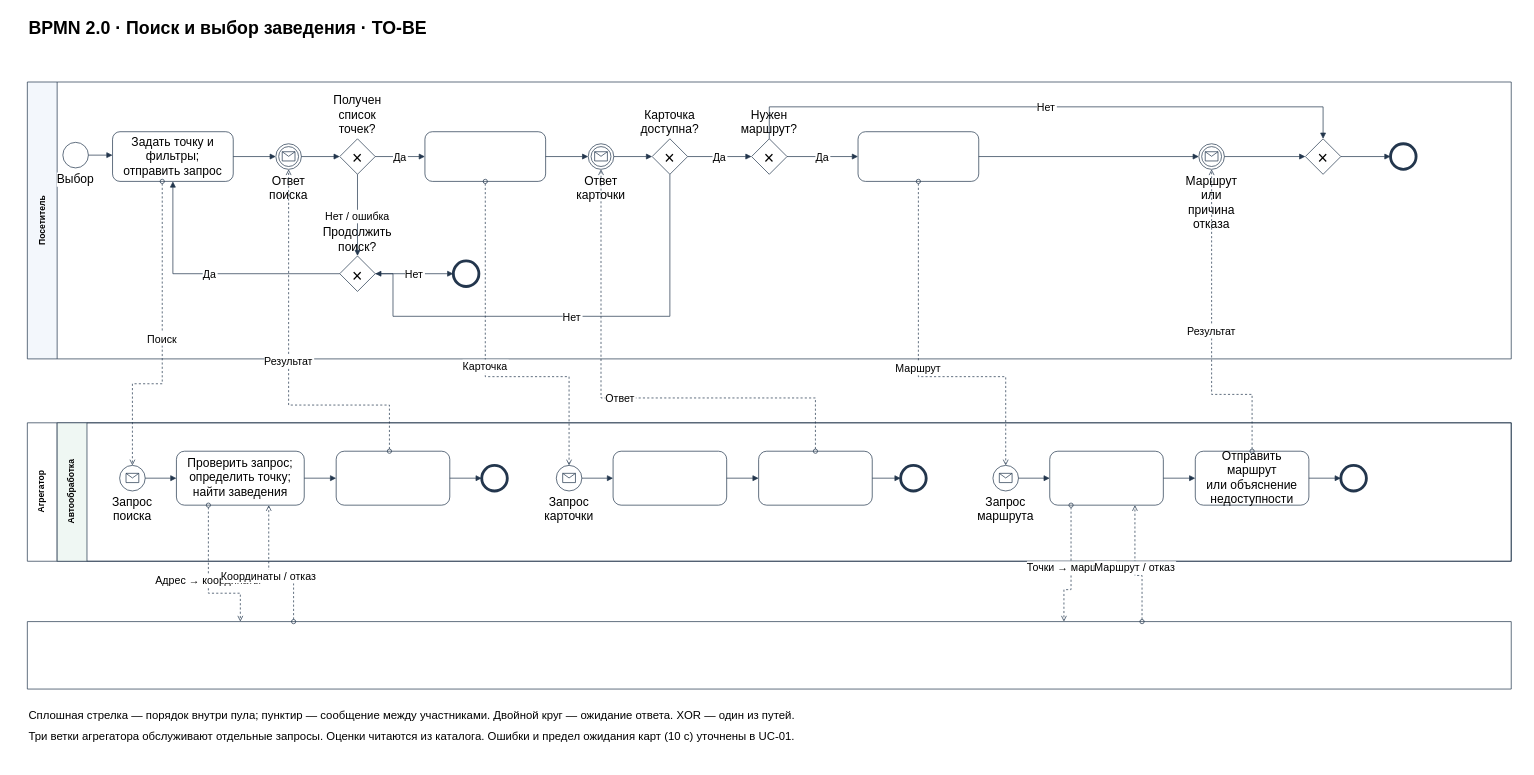
The diagram is 1534 pixels wide and 775 high, and some of its shapes have lost their labels. The shapes that lost their labels are listed below. From the top down, each one's centre as x and y in pixels, then its label:
point (485, 156): Выбрать заведение; запросить карточку
point (918, 156): Запросить маршрут от точки поиска
point (1403, 156): Заведение выбрано, адрес получен
point (466, 273): Поиск прекращён
point (392, 477): Отправить список, пустой результат или ошибку
point (669, 477): Проверить точку; подготовить карточку или объяснение
point (815, 477): Отправить ответ на запрос карточки
point (1106, 477): Проверить точки; получить маршрут или причину отказа
point (769, 655): Картографический сервис · закрытый пул
